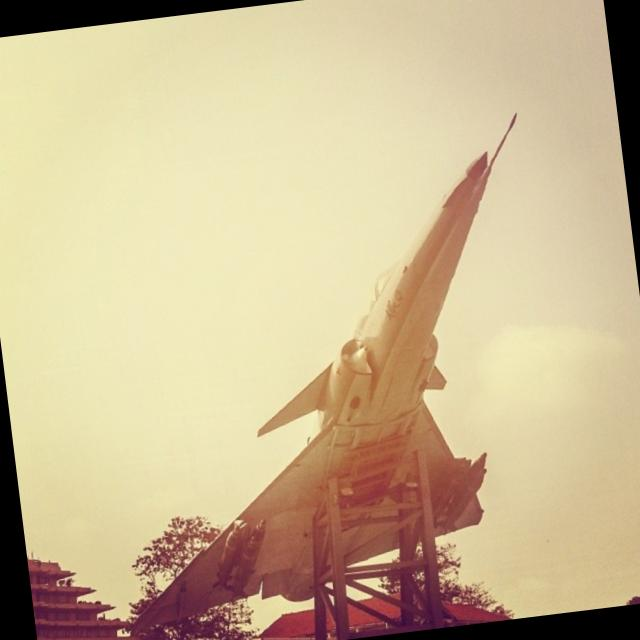rocket: (84, 112, 581, 640)
